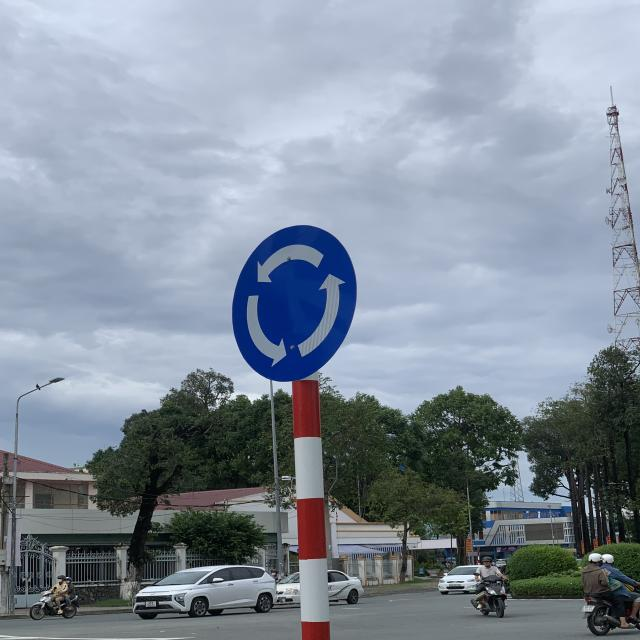Xe_Bus: (230, 223, 360, 384)
